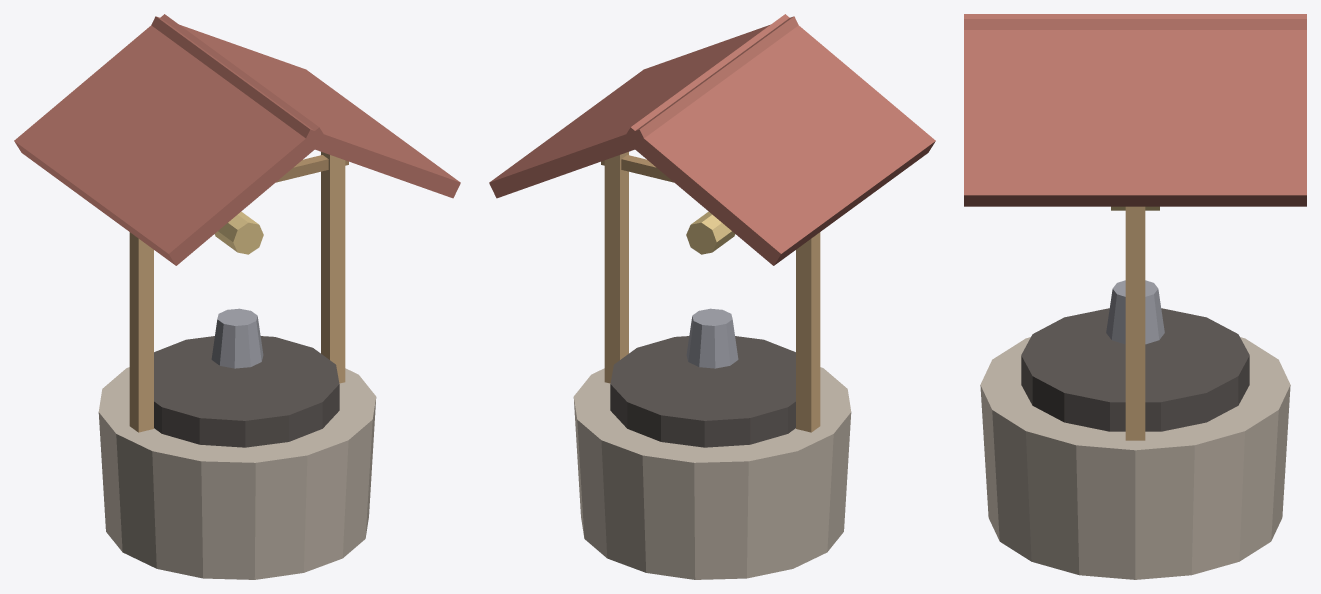
File: well.glb
3 views of the same model, side by side, from view 1: azimuth 30°, elevation 25°; view 2: azimuth 150°, elevation 25°; view 3: azimuth 270°, elevation 25° (orthographic). The views are drawn at different scales.
Visible parts, largest first — view 1: well; view 2: well; view 3: well.
Boxes of the visible parts, left/top/right/bottom form: well: left=14, top=14, right=460, bottom=579; well: left=489, top=14, right=935, bottom=579; well: left=964, top=14, right=1306, bottom=579.
Bounding box in the file's own units: 2.29 × 3.39 × 2.1.
